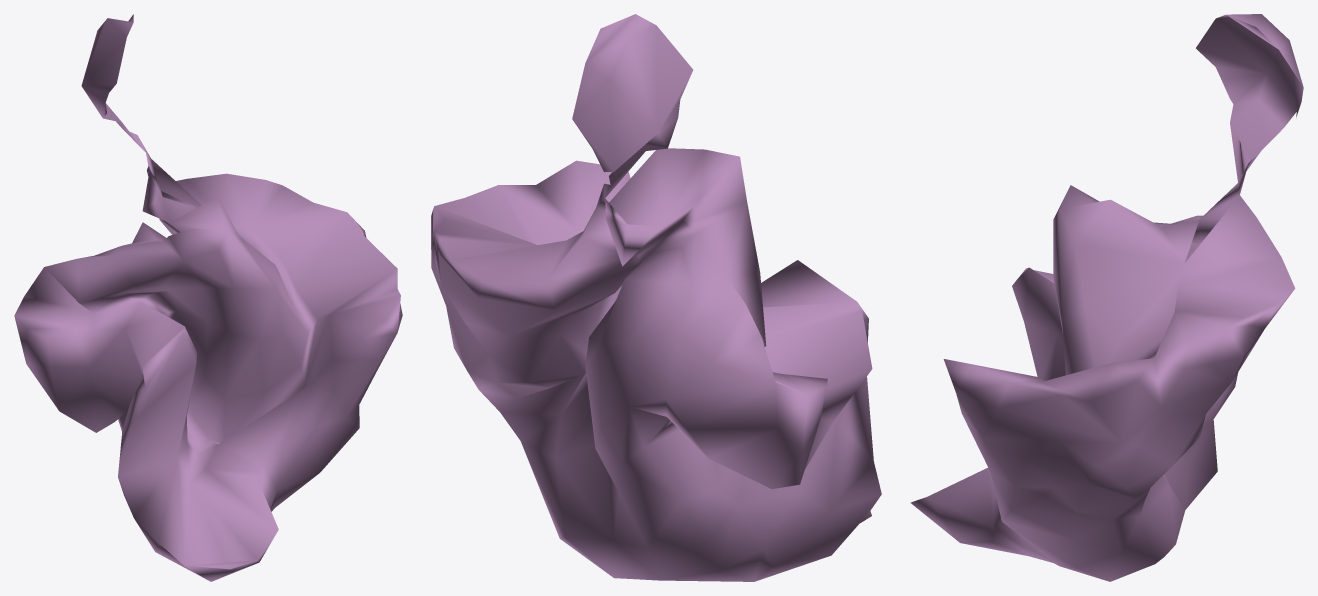
3 views of the same model, side by side, from view 1: azimuth 30°, elevation 25°; view 2: azimuth 150°, elevation 25°; view 3: azimuth 270°, elevation 25° (orthographic). The views are drawn at different scales.
Visible parts, largest first — view 1: 右侧颞极; view 2: 右侧颞极; view 3: 右侧颞极.
Part boxes in pixels (left/top/right/bottom): 右侧颞极: left=14, top=14, right=402, bottom=581; 右侧颞极: left=431, top=14, right=881, bottom=581; 右侧颞极: left=910, top=14, right=1303, bottom=581.
Size of the model in its own units: 0.0435 by 0.0619 by 0.0408.
